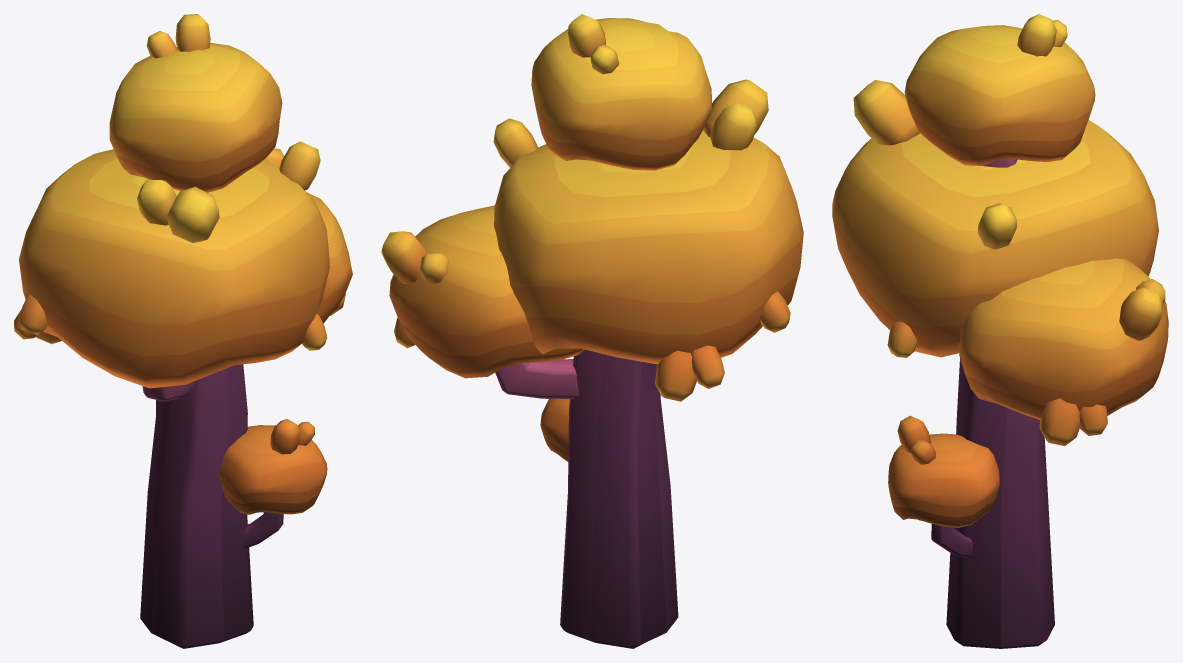
The model's file is grassland_tree_col2_6.fbx.
The picture shows the model from 3 angles, left to right: view 1: azimuth 30°, elevation 25°; view 2: azimuth 150°, elevation 25°; view 3: azimuth 270°, elevation 25°; orthographic projection. The views are drawn at different scales.
Visible parts, largest first — view 1: grassland_tree_col2_6; view 2: grassland_tree_col2_6; view 3: grassland_tree_col2_6.
Part boxes in pixels (left/top/right/bottom): grassland_tree_col2_6: left=14, top=14, right=352, bottom=648; grassland_tree_col2_6: left=381, top=14, right=803, bottom=648; grassland_tree_col2_6: left=832, top=14, right=1168, bottom=648.
Bounding box in the file's own units: 651 × 1081 × 531.
1 material, 1 textured.
